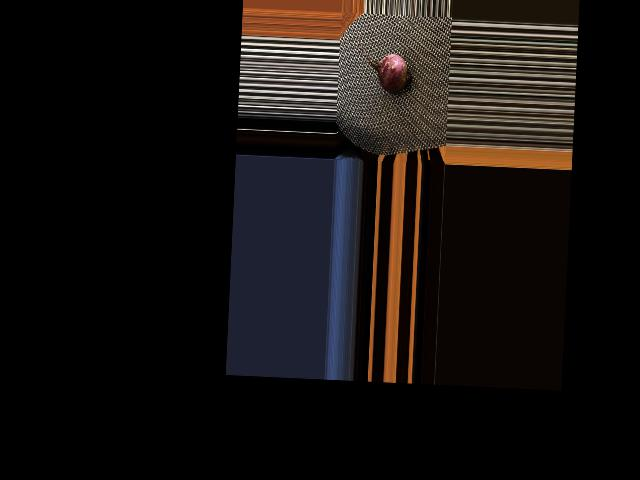beet: (356, 34, 414, 95)
